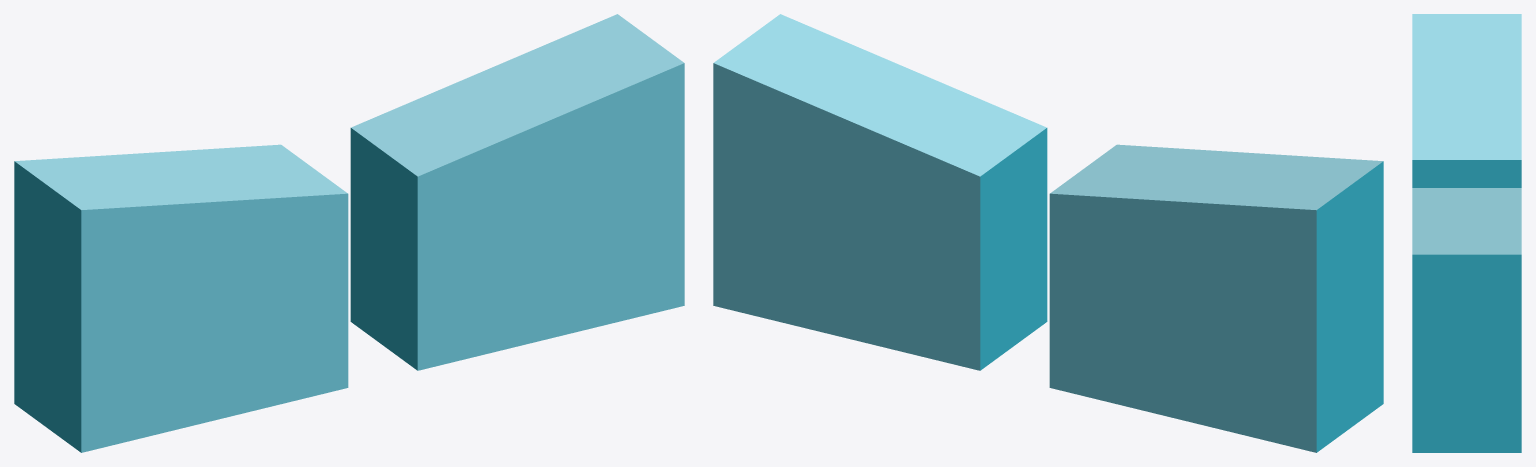
Rendered from D_FBX_01_End_Wall.fbx.
The picture shows the model from 3 angles, left to right: view 1: azimuth 30°, elevation 25°; view 2: azimuth 150°, elevation 25°; view 3: azimuth 270°, elevation 25°; orthographic projection. The views are drawn at different scales.
Visible parts, largest first — view 1: D_FBX_01_End_Wall; view 2: D_FBX_01_End_Wall; view 3: D_FBX_01_End_Wall.
Boxes of the visible parts, left/top/right/bottom form: D_FBX_01_End_Wall: left=14, top=14, right=684, bottom=452; D_FBX_01_End_Wall: left=713, top=14, right=1383, bottom=452; D_FBX_01_End_Wall: left=1412, top=14, right=1521, bottom=452.
Bounding box in the file's own units: 1300 × 500 × 250.
